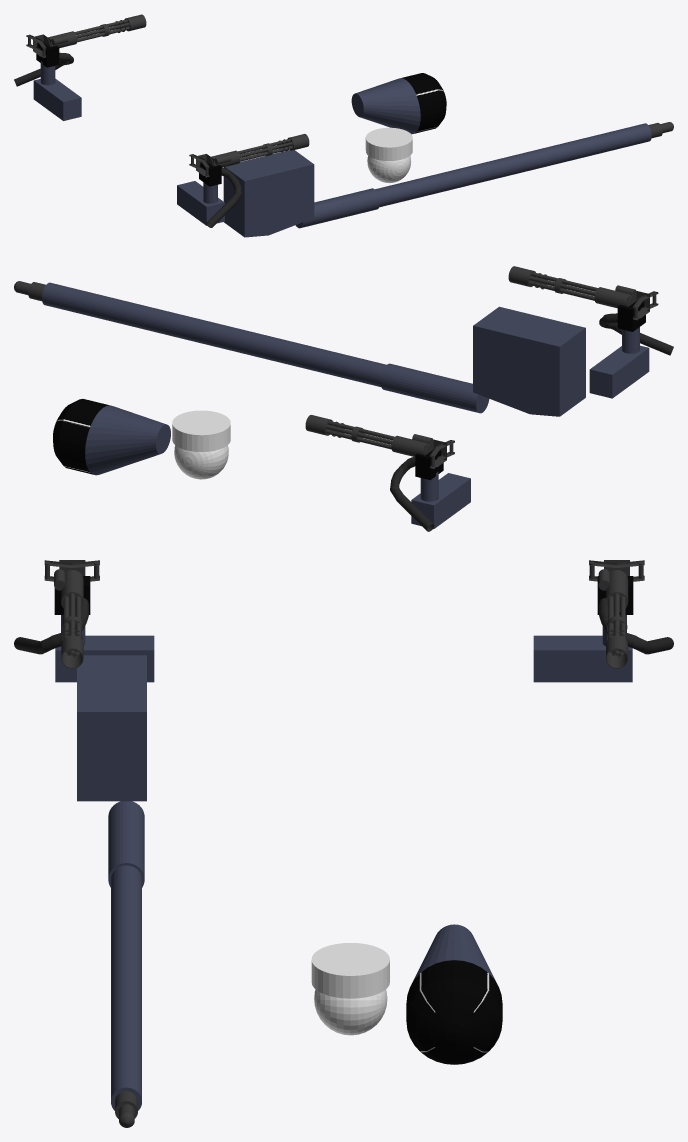
The picture shows the model from 3 angles, top to bottom: view 1: azimuth 30°, elevation 25°; view 2: azimuth 150°, elevation 25°; view 3: azimuth 270°, elevation 25°; orthographic projection. The views are drawn at different scales.
Parts seen in each view (by area): view 1: 円柱.005, 立方体.001, 円柱.002, 立方体.004, 円柱.016, 円柱.004, 立方体.002, 円柱, 球, 円柱.003, 円柱.006, 立方体.003 (+1 smaller); view 2: 円柱.005, 立方体.001, 円柱.002, 立方体.002, 円柱.016, 円柱.004, 立方体.004, 円柱, 球, 円柱.006, 円柱.003, 立方体 (+2 smaller); view 3: 立方体.001, 円柱.002, 円柱.005, 立方体.004, 円柱, 円柱.016, 円柱.004, 球, 立方体.002, 円柱.006, 円柱.003.
Boxes of the visible parts, left/top/right/bottom form: 円柱.005: left=295, top=123, right=651, bottom=228; 立方体.001: left=223, top=150, right=314, bottom=237; 円柱.002: left=351, top=73, right=446, bottom=134; 立方体.004: left=33, top=61, right=81, bottom=120; 円柱.016: left=189, top=134, right=309, bottom=177; 円柱.004: left=26, top=14, right=146, bottom=57; 立方体.002: left=177, top=181, right=224, bottom=225; 円柱: left=365, top=127, right=412, bottom=160; 球: left=367, top=155, right=411, bottom=182; 円柱.003: left=206, top=167, right=241, bottom=227; 円柱.006: left=14, top=52, right=73, bottom=86; 立方体.003: left=36, top=42, right=59, bottom=67; 円柱.005: left=42, top=282, right=489, bottom=413; 立方体.001: left=473, top=306, right=585, bottom=416; 円柱.002: left=53, top=399, right=170, bottom=475; 立方体.002: left=589, top=327, right=649, bottom=398; 円柱.016: left=508, top=266, right=658, bottom=320; 円柱.004: left=305, top=415, right=454, bottom=468; 立方体.004: left=411, top=471, right=470, bottom=528; 円柱: left=172, top=410, right=230, bottom=451; 球: left=174, top=445, right=228, bottom=479; 円柱.006: left=390, top=457, right=434, bottom=531; 円柱.003: left=599, top=313, right=673, bottom=355; 立方体: left=617, top=300, right=645, bottom=331; 立方体.001: left=77, top=655, right=146, bottom=801; 円柱.002: left=406, top=924, right=502, bottom=1064; 円柱.005: left=108, top=801, right=144, bottom=1110; 立方体.004: left=533, top=612, right=632, bottom=682; 円柱: left=311, top=943, right=389, bottom=998; 円柱.016: left=44, top=560, right=99, bottom=668; 円柱.004: left=589, top=560, right=644, bottom=668; 球: left=314, top=989, right=387, bottom=1035; 立方体.002: left=55, top=612, right=154, bottom=682; 円柱.006: left=599, top=598, right=673, bottom=654; 円柱.003: left=14, top=598, right=88, bottom=654.
Size of the model in its own units: 4.55 by 1.31 by 3.13.
8 materials, 1 textured.
